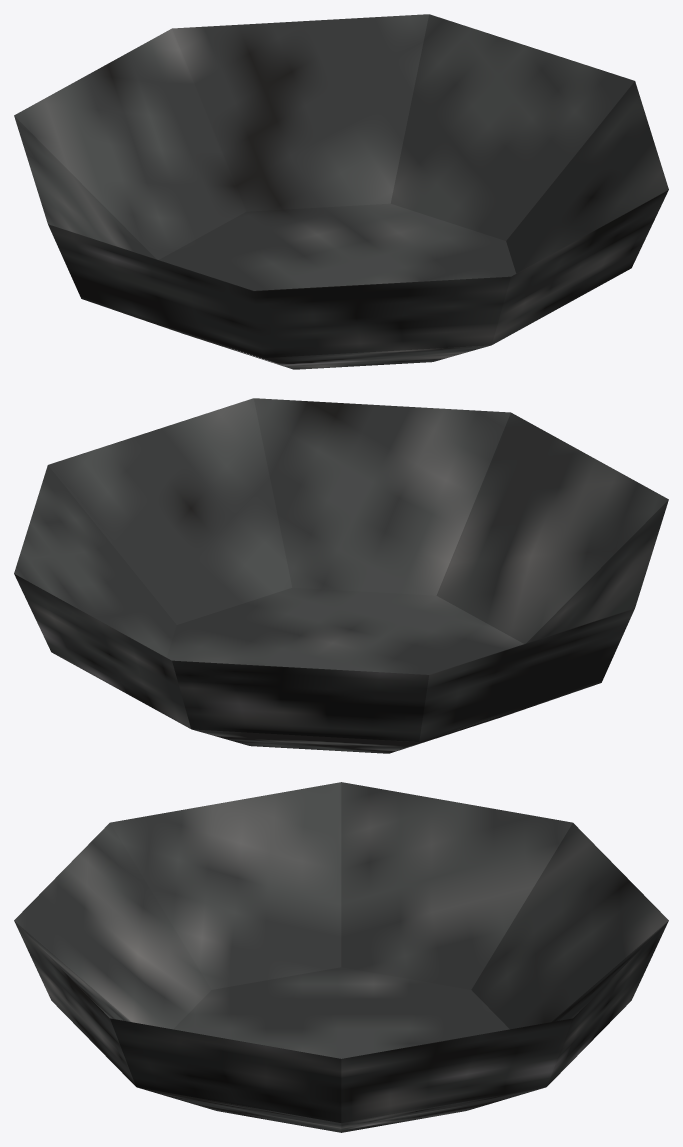
Rendered from SM_Dungeon_Plate_Big.fbx.
3 views of the same model, one above another, from view 1: azimuth 30°, elevation 25°; view 2: azimuth 150°, elevation 25°; view 3: azimuth 270°, elevation 25° (orthographic). The views are drawn at different scales.
Parts seen in each view (by area): view 1: SM_Dungeon_Plate_Big; view 2: SM_Dungeon_Plate_Big; view 3: SM_Dungeon_Plate_Big.
Part boxes in pixels (x1,y1,x2,y2): SM_Dungeon_Plate_Big: (14,14,668,369); SM_Dungeon_Plate_Big: (14,398,668,753); SM_Dungeon_Plate_Big: (14,782,668,1132).
Bounding box in the file's own units: 32.96 × 7.64 × 32.96.
